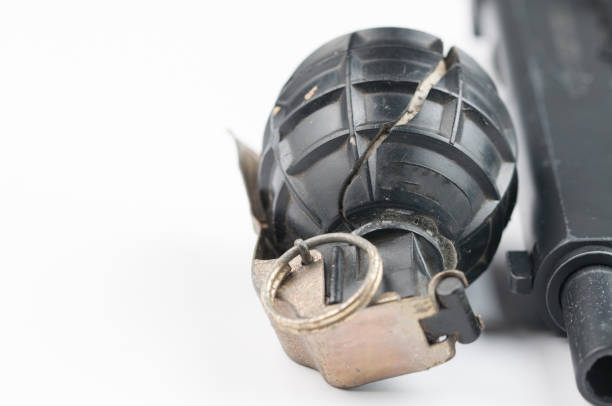e1: (217, 23, 518, 387)
